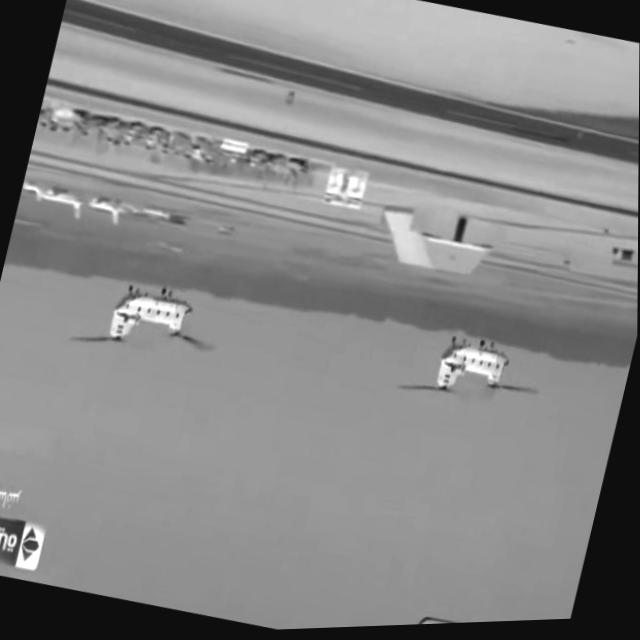helikopter: (84, 245, 235, 380), (404, 313, 528, 441)
